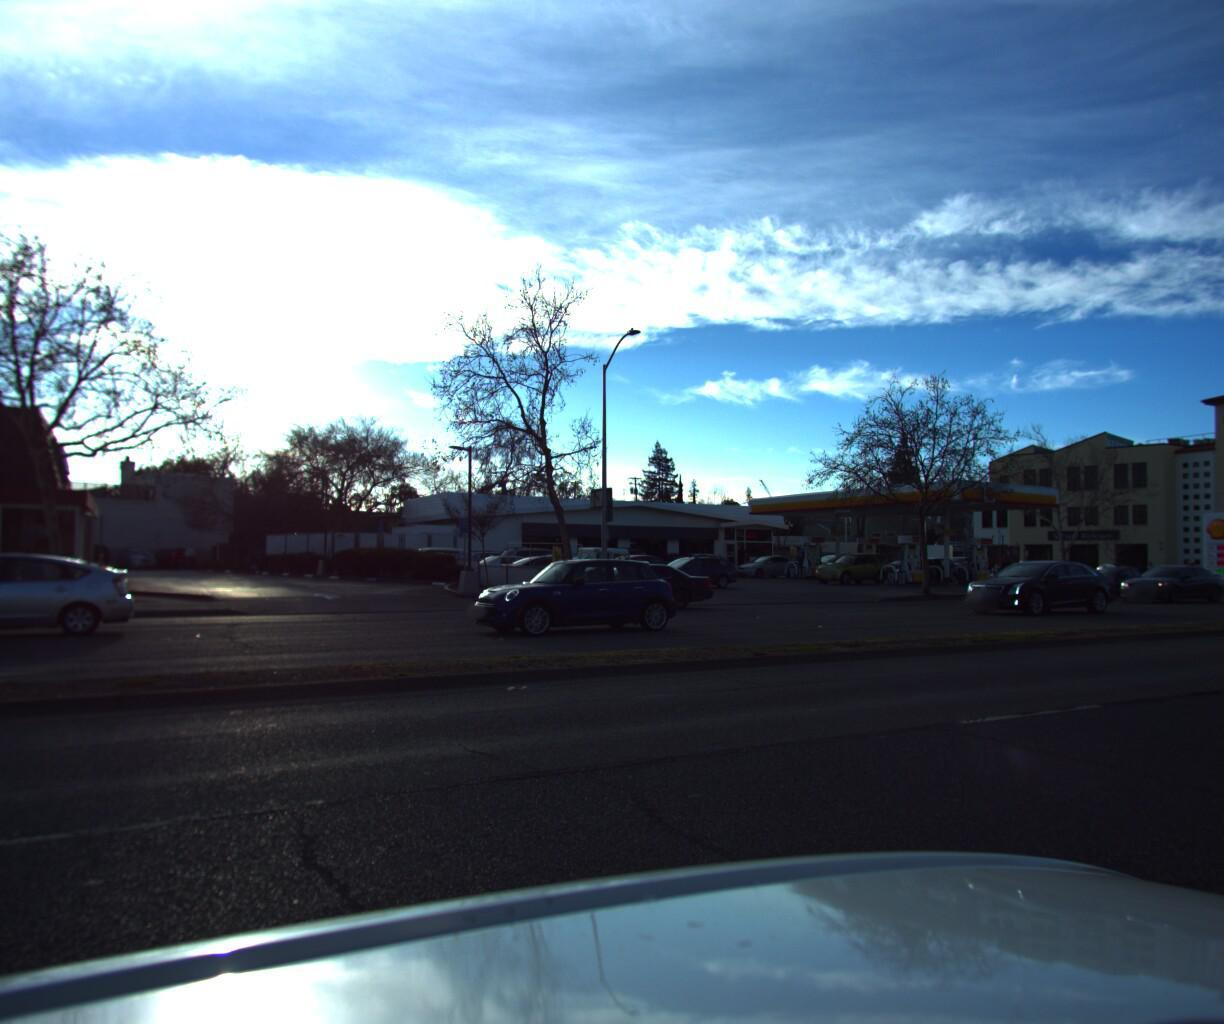car: (458, 545, 679, 638), (0, 545, 131, 650), (951, 554, 1117, 616), (557, 560, 722, 617), (522, 539, 659, 594), (557, 551, 686, 597), (1111, 557, 1223, 600), (491, 551, 608, 590), (633, 548, 742, 588), (589, 549, 699, 588), (487, 542, 590, 582), (460, 551, 560, 586), (405, 542, 499, 577), (802, 548, 890, 582), (726, 550, 801, 575), (625, 548, 691, 575), (492, 529, 544, 553), (636, 529, 688, 551), (591, 528, 642, 550), (1198, 555, 1224, 580)
